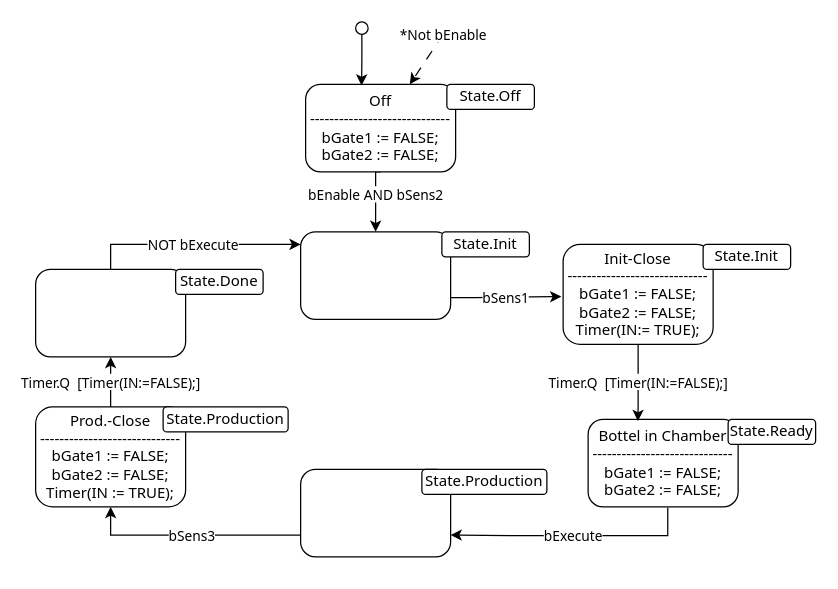
The diagram is 838 pixels wide and 589 high, and some of its shapes have lost their labels. The box of each missing label's shape, as (x1, y1, x2, y2) in pixels:
Bottel separated ----------------------------- bGate1 := FALSE; bGate2 := FALSE;: (34, 268, 186, 357)
Init-Open ----------------------------- bGate1 := TRUE; bGate2 := FALSE;: (299, 231, 451, 319)
Prod.-Open ----------------------------- bGate1 := FALSE; bGate2 := TRUE;: (299, 468, 451, 557)
